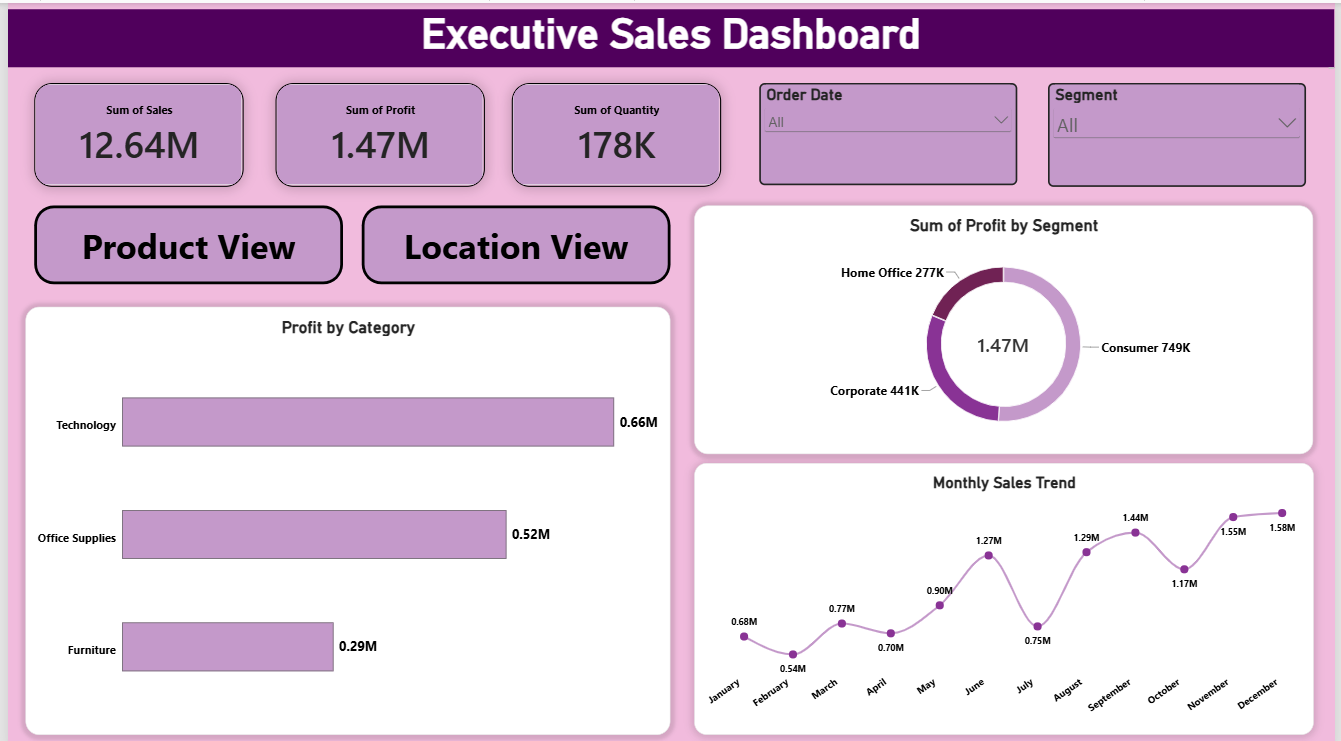

The page's visual inventory and layout, read from the dashboard file:
{"tool":"powerbi","page":{"name":"Assignment_4","canvas":[1920,1080],"ordinal":0},"visuals":[{"type":"textbox","title":"Executive Sales Dashboard","box":[0,8.3,1920,86.7],"z":0},{"type":"cardVisual","fields":{"Data":["Sum(Fact_Table.Sales)"]},"box":[38.3,116.7,303.3,150],"z":1000},{"type":"cardVisual","fields":{"Data":["Sum(Fact_Table.Quantity)"]},"box":[730,116.7,303.3,150],"z":2000},{"type":"cardVisual","fields":{"Data":["Sum(Fact_Table.Profit)"]},"box":[386.7,116.7,303.3,150],"z":3000},{"type":"slicer","fields":{"Values":["Fact_Table.Segment"]},"box":[1505,115,373.3,150],"z":4000},{"type":"slicer","fields":{"Values":["Fact_Table.Order Date"]},"box":[1088.3,116.7,373.3,148.3],"z":5000},{"type":"clusteredBarChart","title":"Profit by Category","fields":{"Category":["Fact_Table.Category Hierarchy.Category","Fact_Table.Category Hierarchy.Sub-Category","Fact_Table.Category Hierarchy.Product Name"],"Y":["Sum(Fact_Table.Profit)"]},"box":[25.9,438.9,933.3,620.4],"z":7000},{"type":"lineChart","title":"Monthly Sales Trend","fields":{"Category":["Fact_Table.Order Date.Variation.Date Hierarchy.Year","Fact_Table.Order Date.Variation.Date Hierarchy.Month"],"Y":["Sum(Fact_Table.Sales)"]},"box":[993.3,666.7,896.7,393.3],"z":8000},{"type":"donutChart","fields":{"Category":["Fact_Table.Segment"],"Y":["Sum(Fact_Table.Profit)"]},"box":[993.5,293.2,895.8,360.1],"z":9000},{"type":"shape","box":[513,292.6,447,114],"z":10000},{"type":"shape","box":[38.9,292.6,447,114],"z":11000}]}

Visuals, with their boxes in screenshot pixels (x1, y1, x2, y2), scaled from the page's 1920x1080 canvas onto the 1341x741 screenshot:
"Executive Sales Dashboard" textbox: <region>0, 6, 1340, 65</region>
cardVisual - Sum(Fact_Table.Sales): <region>27, 80, 239, 183</region>
cardVisual - Sum(Fact_Table.Quantity): <region>510, 80, 722, 183</region>
cardVisual - Sum(Fact_Table.Profit): <region>270, 80, 482, 183</region>
slicer - Fact_Table.Segment: <region>1051, 79, 1312, 182</region>
slicer - Fact_Table.Order Date: <region>760, 80, 1021, 182</region>
"Profit by Category" clusteredBarChart: <region>18, 301, 670, 727</region>
"Monthly Sales Trend" lineChart: <region>694, 457, 1320, 727</region>
donutChart - Fact_Table.Segment x Sum(Fact_Table.Profit): <region>694, 201, 1320, 448</region>
shape: <region>358, 201, 670, 279</region>
shape: <region>27, 201, 339, 279</region>
